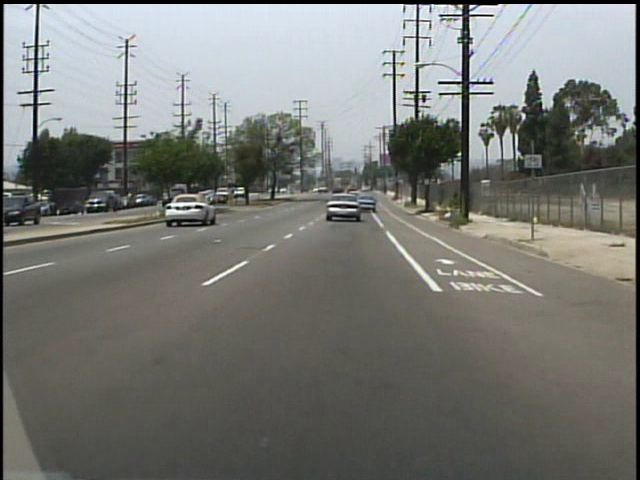person: (125, 189, 135, 209)
